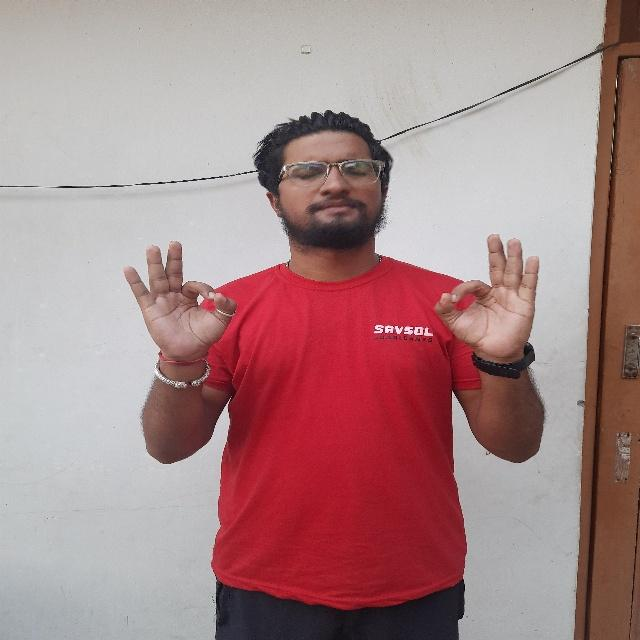Okay: (110, 228, 247, 377), (422, 223, 548, 381)
